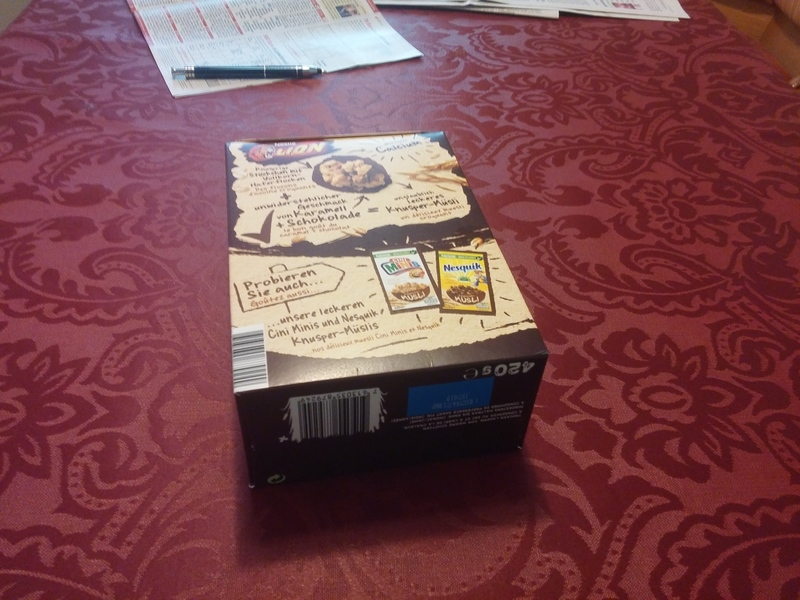cereals: (223, 129, 551, 491)
